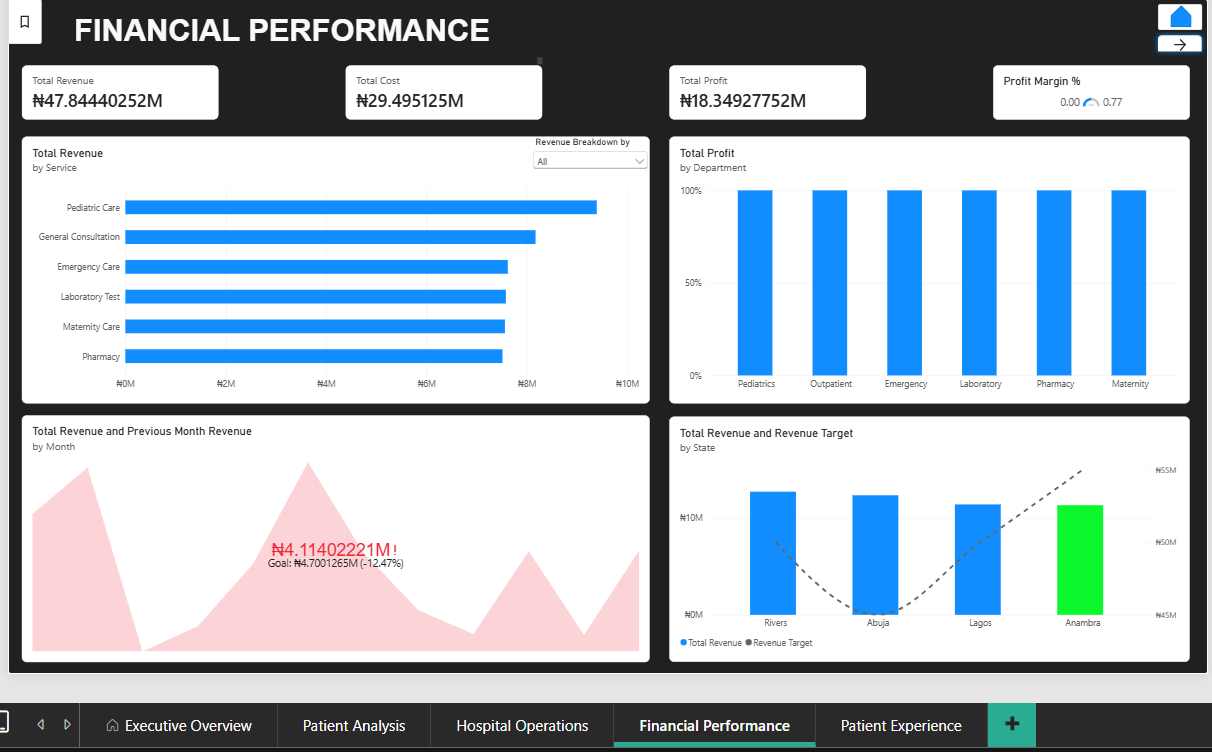

The dashboard page shown, as its layout file describes it:
{"tool":"powerbi","page":{"name":"Financial Performance","canvas":[1920,1080],"ordinal":3},"visuals":[{"type":"textbox","title":"FINANCIAL PERFORMANCE","box":[22.5,22.5,832.5,82.5],"z":5000},{"type":"cardVisual","fields":{"Data":["_Measures.Total Revenue"]},"box":[22.5,105.6,315,87.5],"z":6000},{"type":"cardVisual","fields":{"Data":["_Measures.Total Cost"]},"box":[540,105.6,315,87.5],"z":7000},{"type":"cardVisual","fields":{"Data":["_Measures.Total Profit"]},"box":[1057.5,105.6,315,87.5],"z":8000},{"type":"gauge","fields":{"Y":["_Measures.Profit Margin %"]},"box":[1575,105,315,87.5],"z":9000},{"type":"barChart","fields":{"Category":["Dim_State_Targets.State","Fact_Visits.Department","Fact_Visits.Service"],"Y":["_Measures.Total Revenue"]},"box":[22.5,220,1005,427.5],"z":10000},{"type":"slicer","fields":{"Values":["Revenue Breakdown by.Revenue Breakdown by"]},"box":[835,220,192.5,60],"z":11000},{"type":"hundredPercentStackedColumnChart","fields":{"Category":["Fact_Visits.Department"],"Y":["_Measures.Total Profit"]},"box":[1057.5,220,832.5,427.5],"z":12000},{"type":"kpi","fields":{"Goal":["_Measures.Previous Month Revenue"],"Indicator":["_Measures.Total Revenue"],"TrendLine":["Dim_Date.Month"]},"box":[22.5,665,1005,395],"z":13000},{"type":"lineStackedColumnComboChart","fields":{"Category":["Dim_State_Targets.State"],"Y":["_Measures.Total Revenue"],"Y2":["_Measures.Revenue Target"]},"box":[1057.5,667.5,832.5,392.5],"z":14000},{"type":"actionButton","box":[1832.7,50,86,42],"z":14001},{"type":"actionButton","box":[1840.9,8.2,70.9,41.8],"z":14002},{"type":"actionButton","box":[0,0,54,72],"z":14003},{"type":"shape","box":[1859.1,10.9,33.6,35.5],"z":14004}]}

Visuals, with their boxes in screenshot pixels (x1, y1, x2, y2):
"FINANCIAL PERFORMANCE" textbox: (20,11,539,62)
cardVisual - _Measures.Total Revenue: (20,63,216,117)
cardVisual - _Measures.Total Cost: (342,63,539,117)
cardVisual - _Measures.Total Profit: (665,63,861,117)
gauge - _Measures.Profit Margin %: (987,62,1183,117)
barChart - Dim_State_Targets.State x Fact_Visits.Department: (20,134,646,400)
slicer - Revenue Breakdown by.Revenue Breakdown by: (526,134,646,171)
hundredPercentStackedColumnChart - Fact_Visits.Department x _Measures.Total Profit: (665,134,1183,400)
kpi - _Measures.Previous Month Revenue x _Measures.Total Revenue: (20,411,646,657)
lineStackedColumnComboChart - Dim_State_Targets.State x _Measures.Total Revenue: (665,412,1183,657)
actionButton: (1147,28,1201,54)
actionButton: (1152,2,1196,28)
actionButton: (6,0,40,42)
shape: (1164,4,1185,26)
